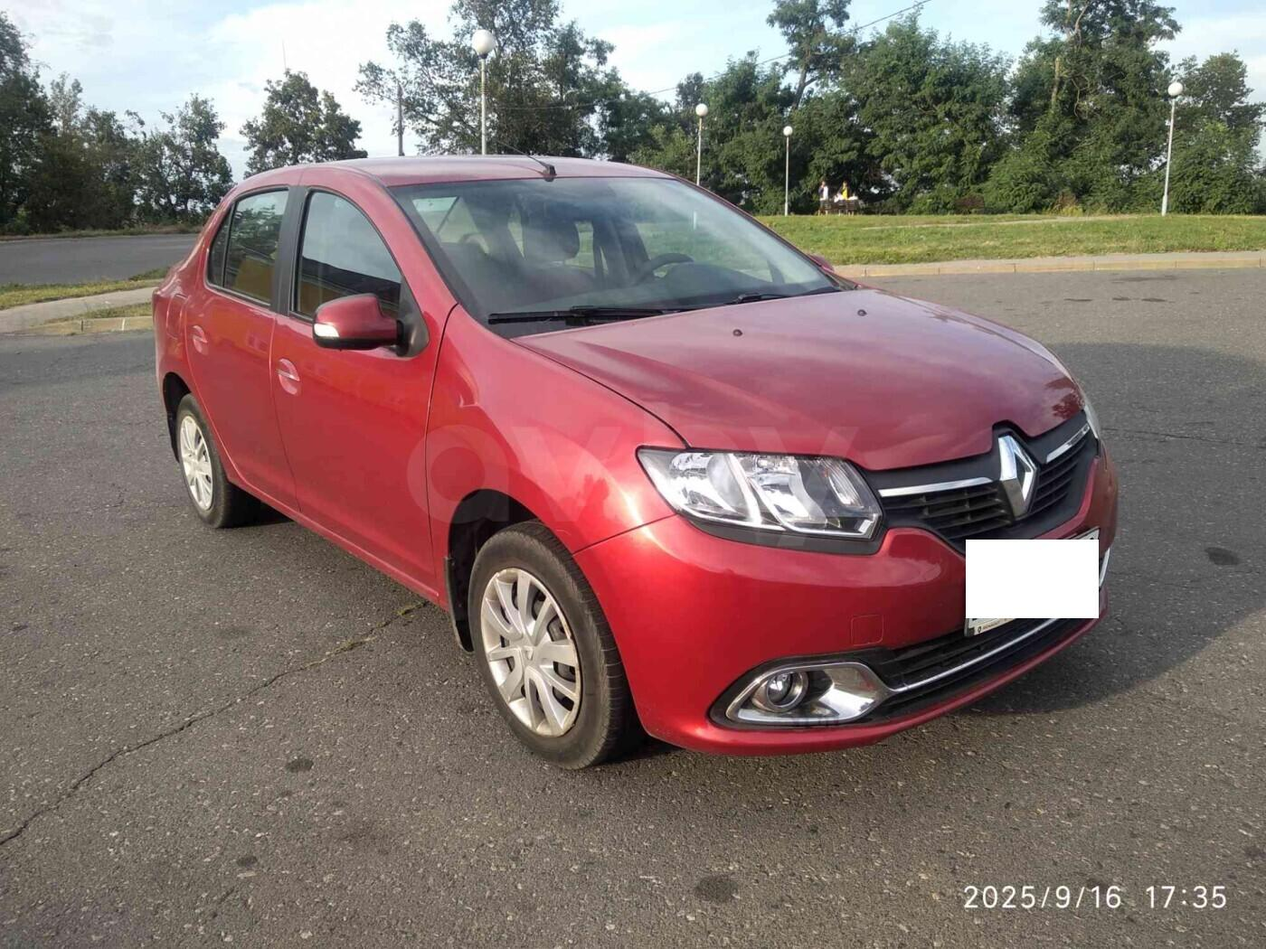Logan_2013-2018: (149, 152, 1126, 779)
